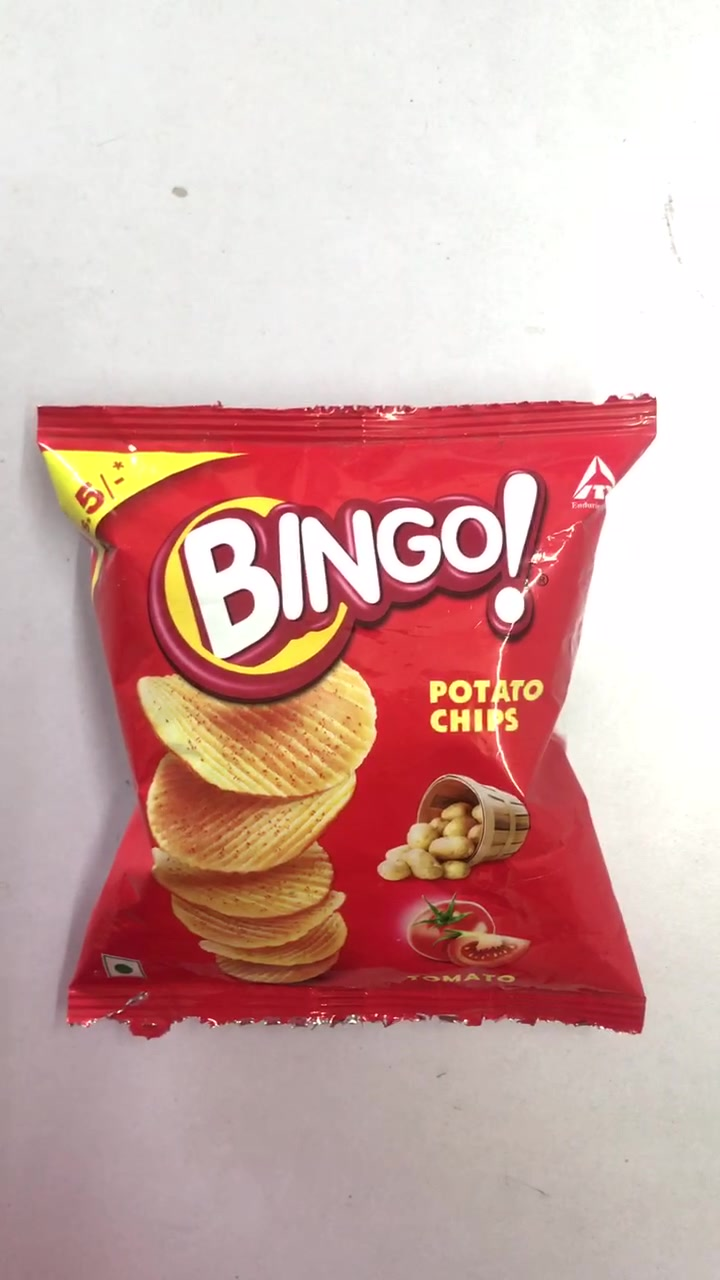Bingo: (41, 406, 639, 1028)
